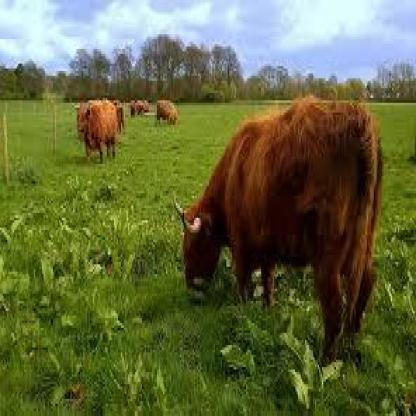cow: (183, 100, 382, 365), (77, 100, 118, 157), (154, 99, 178, 126)
